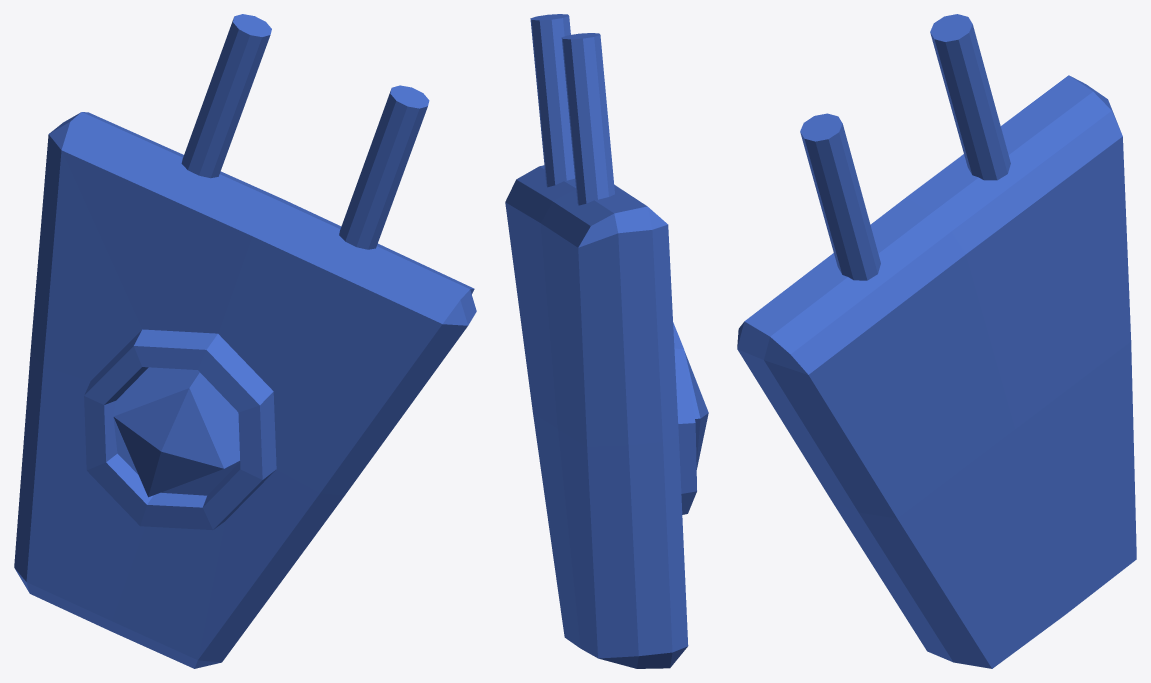
Rendered from Fighter_03_Flap_Blue.fbx.
The picture shows the model from 3 angles, left to right: view 1: azimuth 30°, elevation 25°; view 2: azimuth 150°, elevation 25°; view 3: azimuth 270°, elevation 25°; orthographic projection. The views are drawn at different scales.
Parts seen in each view (by area): view 1: Fighter_03_Flap_Blue; view 2: Fighter_03_Flap_Blue; view 3: Fighter_03_Flap_Blue.
Boxes of the visible parts, box(x1,y1,x2,y2) form: Fighter_03_Flap_Blue: box(14, 14, 476, 668); Fighter_03_Flap_Blue: box(505, 14, 708, 668); Fighter_03_Flap_Blue: box(737, 14, 1136, 668).
Bounding box in the file's own units: 55.99 × 107 × 58.57.
Materials: 1 (1 with a texture image).
